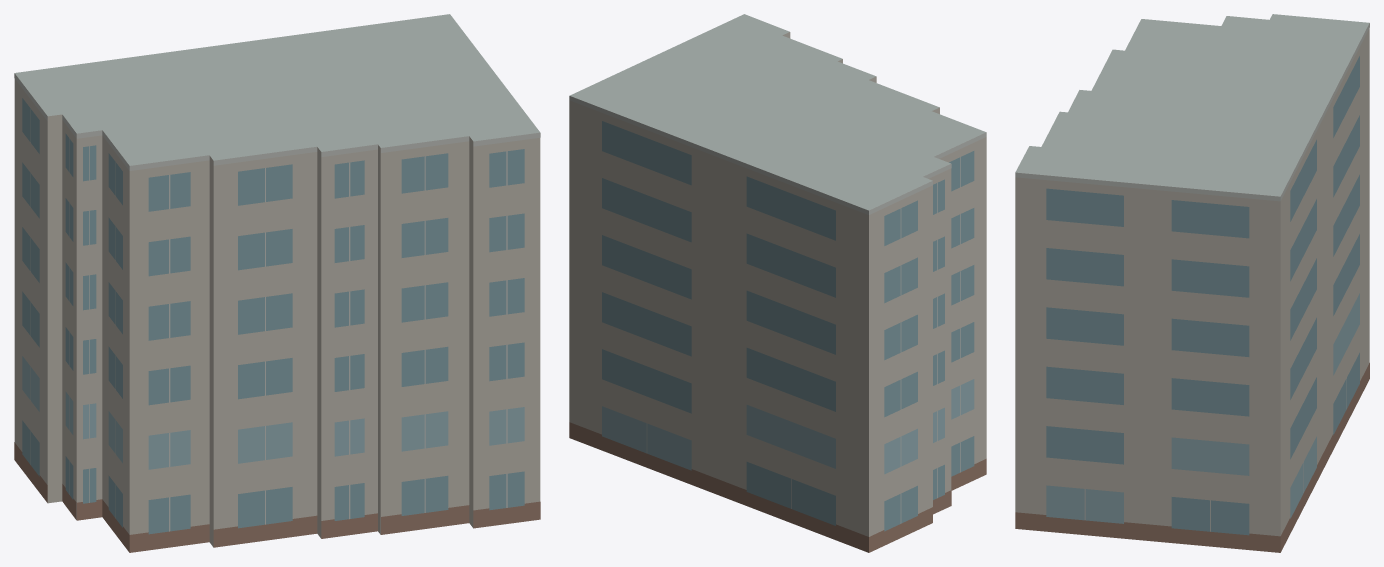
The model's file is survey-upis-32943001.glb.
The picture shows the model from 3 angles, left to right: view 1: azimuth 30°, elevation 25°; view 2: azimuth 150°, elevation 25°; view 3: azimuth 270°, elevation 25°; orthographic projection. The views are drawn at different scales.
Parts seen in each view (by area): view 1: survey-upis-32943001.tmp; view 2: survey-upis-32943001.tmp; view 3: survey-upis-32943001.tmp.
Boxes of the visible parts, left/top/right/bottom form: survey-upis-32943001.tmp: left=14, top=14, right=540, bottom=552; survey-upis-32943001.tmp: left=569, top=14, right=986, bottom=552; survey-upis-32943001.tmp: left=1015, top=14, right=1369, bottom=552.
Bounding box in the file's own units: 20.13 × 18.3 × 16.52.
